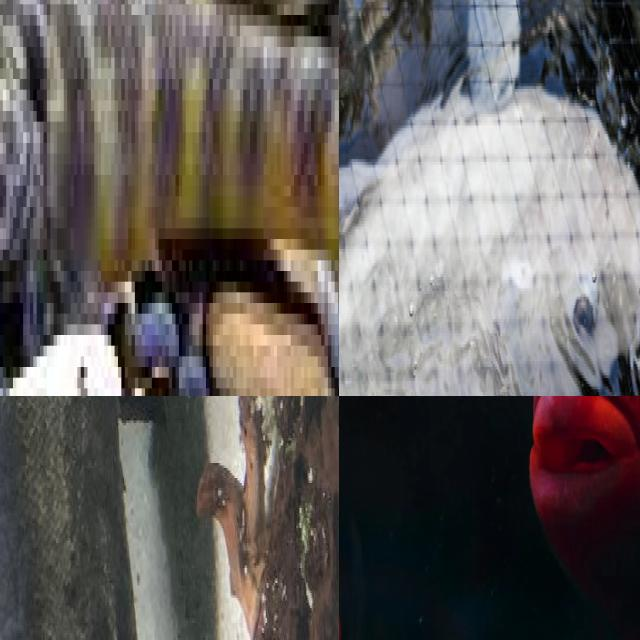fish: (0, 0, 339, 396), (0, 396, 185, 640), (418, 485, 539, 640)
